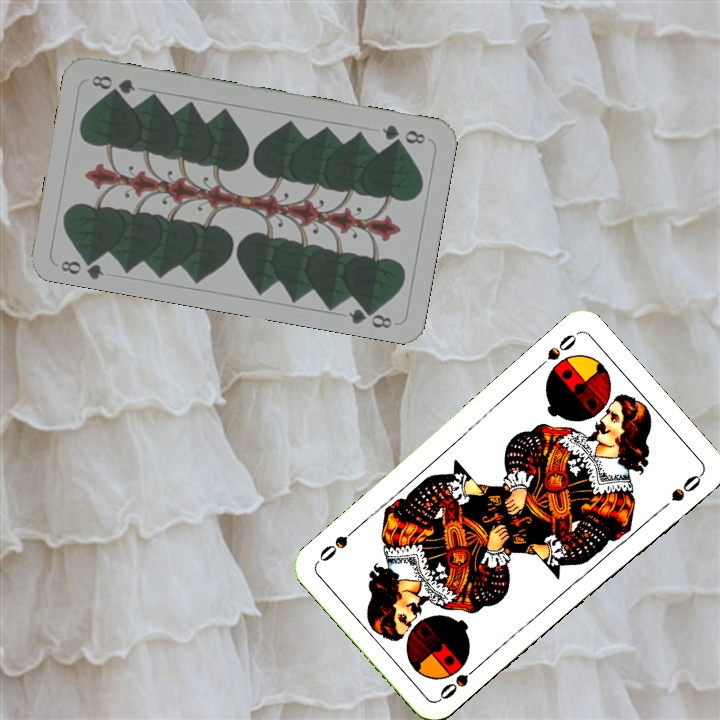G8: (56, 250, 107, 281), (378, 120, 428, 147)
SO: (435, 659, 484, 703), (532, 329, 580, 373)
